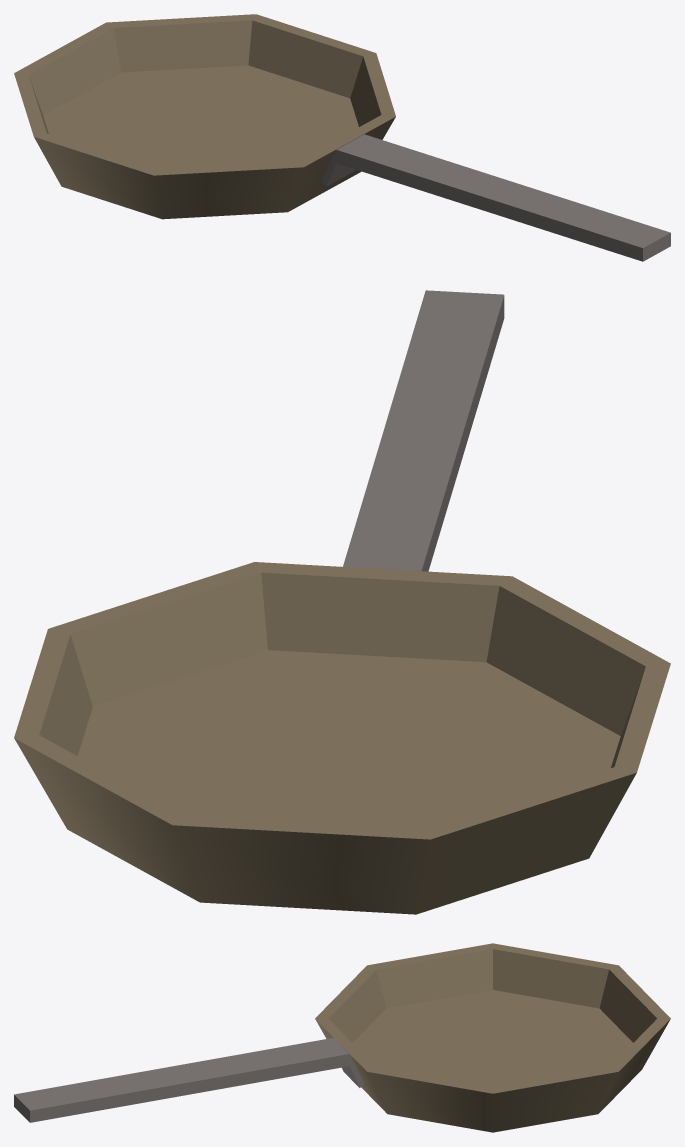
Rendered from SM_Pan_03.FBX.
The picture shows the model from 3 angles, top to bottom: view 1: azimuth 30°, elevation 25°; view 2: azimuth 150°, elevation 25°; view 3: azimuth 270°, elevation 25°; orthographic projection. The views are drawn at different scales.
Parts seen in each view (by area): view 1: SM_Pan_03; view 2: SM_Pan_03; view 3: SM_Pan_03.
Boxes of the visible parts, box(x1,y1,x2,y2) form: SM_Pan_03: box(14, 14, 670, 261); SM_Pan_03: box(14, 290, 670, 914); SM_Pan_03: box(14, 943, 670, 1132).
Bounding box in the file's own units: 27.42 × 45.61 × 3.91.
